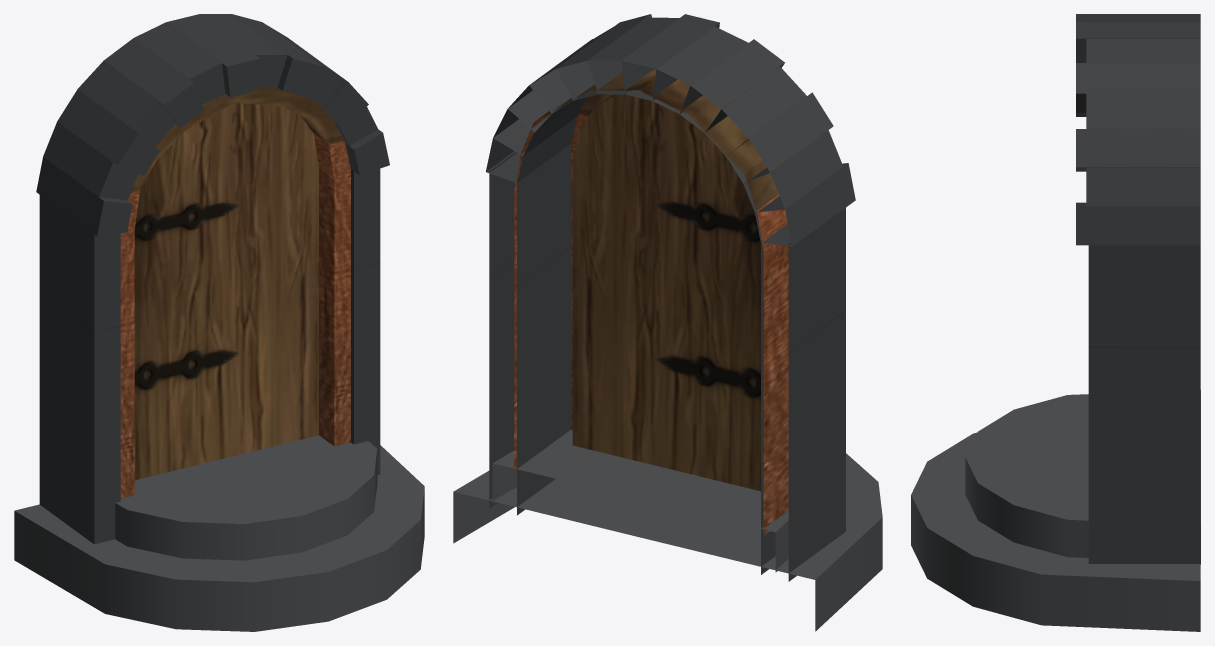
The model's file is fanasty_mod_door03.fbx.
3 views of the same model, side by side, from view 1: azimuth 30°, elevation 25°; view 2: azimuth 150°, elevation 25°; view 3: azimuth 270°, elevation 25° (orthographic). The views are drawn at different scales.
Parts seen in each view (by area): view 1: door_03; view 2: door_03; view 3: door_03.
Boxes of the visible parts, x1=… form: door_03: x1=14, y1=14, x2=424, y2=631; door_03: x1=453, y1=14, x2=882, y2=631; door_03: x1=911, y1=14, x2=1200, y2=631.
Size of the model in its own units: 2.07 by 2.87 by 1.47.
